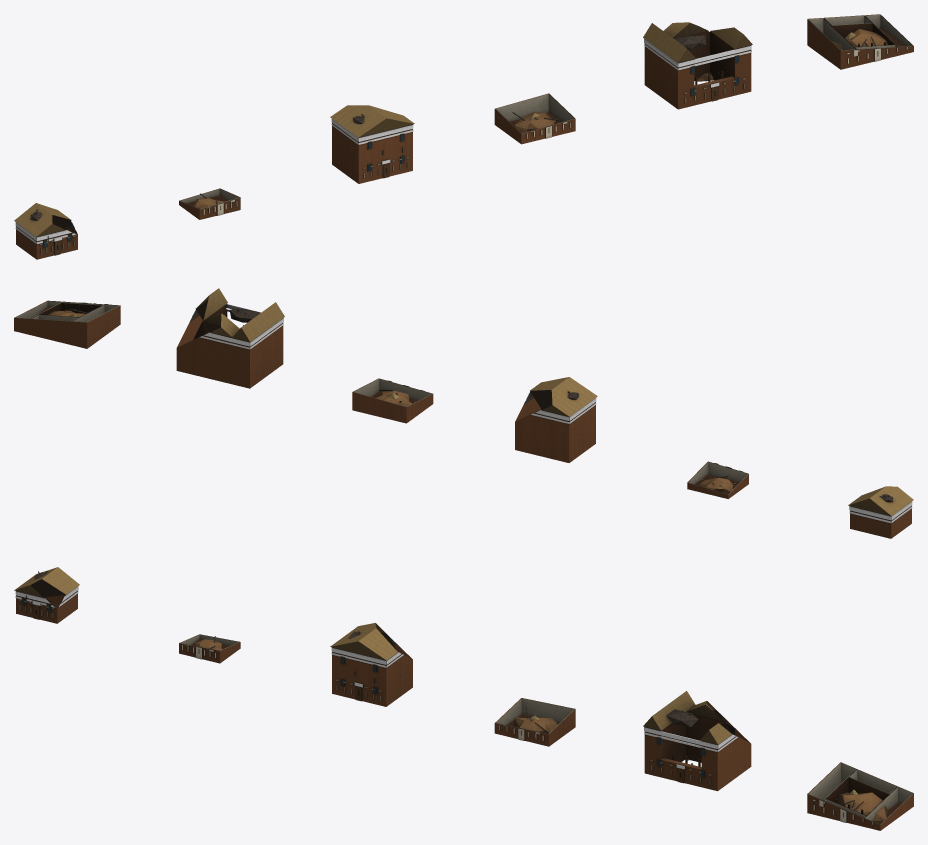
Rendered from kingdoms-westafrica-houses-damage.glb.
3 renders of one model, top to bottom at view 1: azimuth 30°, elevation 25°; view 2: azimuth 150°, elevation 25°; view 3: azimuth 330°, elevation 25°, orthographic.
Visible parts, largest first — view 1: LOD0.004, LOD0.002, LOD0.005, LOD0.003, LOD0, LOD0.001; view 2: LOD0.004, LOD0.002, LOD0.005, LOD0, LOD0.003, LOD0.001; view 3: LOD0.004, LOD0.002, LOD0.005, LOD0.003, LOD0, LOD0.001.
Boxes of the visible parts, left/top/right/bottom form: LOD0.004: left=643, top=22, right=752, bottom=109; LOD0.002: left=330, top=105, right=414, bottom=183; LOD0.005: left=807, top=14, right=913, bottom=69; LOD0.003: left=494, top=93, right=575, bottom=144; LOD0: left=14, top=203, right=77, bottom=259; LOD0.001: left=179, top=188, right=240, bottom=219; LOD0.004: left=176, top=288, right=284, bottom=388; LOD0.002: left=515, top=377, right=597, bottom=462; LOD0.005: left=14, top=300, right=120, bottom=348; LOD0: left=848, top=486, right=913, bottom=538; LOD0.003: left=352, top=378, right=433, bottom=423; LOD0.001: left=687, top=461, right=748, bottom=498; LOD0.004: left=643, top=691, right=751, bottom=791; LOD0.002: left=330, top=623, right=412, bottom=706; LOD0.005: left=807, top=762, right=913, bottom=830; LOD0.003: left=494, top=698, right=575, bottom=746; LOD0: left=14, top=567, right=79, bottom=623; LOD0.001: left=179, top=634, right=240, bottom=663.
Size of what is drawn, in the model's own units: 16.08 by 1.06 by 1.11.
Materials: 2 (2 with a texture image).
